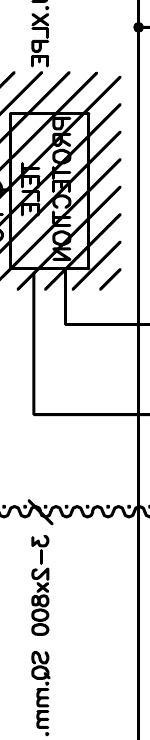tele_protection: (6, 109, 93, 273)
